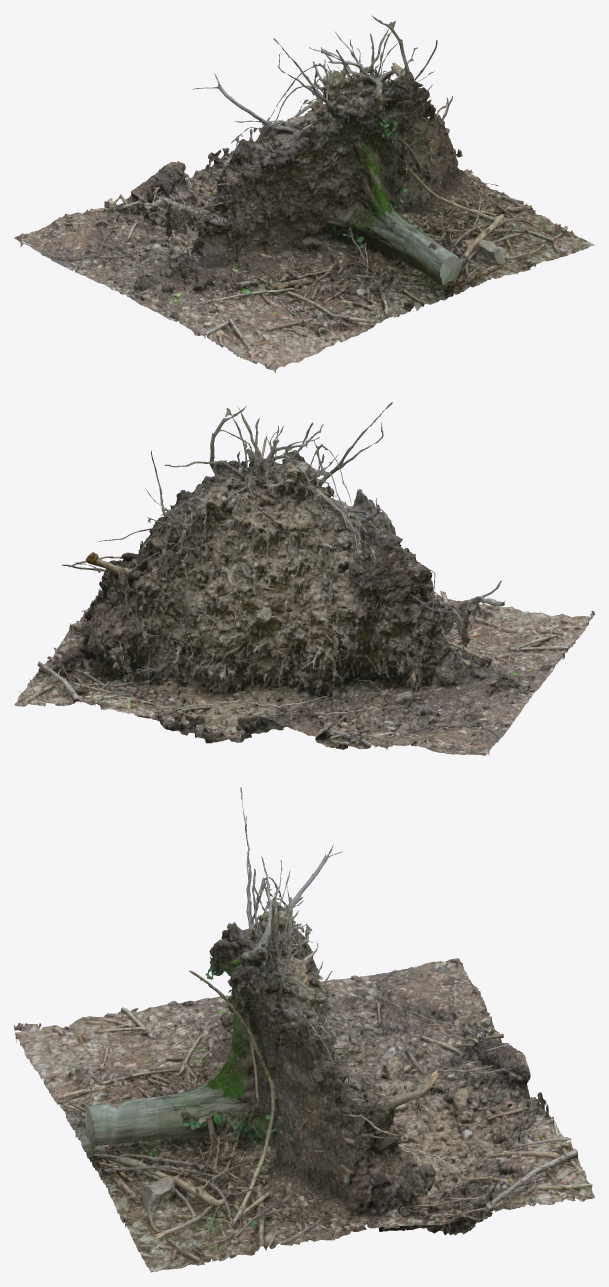
Rendered from sf-uprooted-fallen-hornbeam-tree-870b59.glb.
3 renders of one model, top to bottom at view 1: azimuth 30°, elevation 25°; view 2: azimuth 150°, elevation 25°; view 3: azimuth 270°, elevation 25°, orthographic. The views are drawn at different scales.
Parts seen in each view (by area): view 1: hornbeam-uprooted_hornbeam-uprooted_u1_v1_0; view 2: hornbeam-uprooted_hornbeam-uprooted_u1_v1_0; view 3: hornbeam-uprooted_hornbeam-uprooted_u1_v1_0.
Boxes of the visible parts, x1,y1,x2,y2 form: hornbeam-uprooted_hornbeam-uprooted_u1_v1_0: [14, 15, 594, 372]; hornbeam-uprooted_hornbeam-uprooted_u1_v1_0: [14, 402, 594, 755]; hornbeam-uprooted_hornbeam-uprooted_u1_v1_0: [14, 787, 594, 1272].
Size of the model in its own units: 3.39 by 1.92 by 2.99.
1 material, 1 textured.
